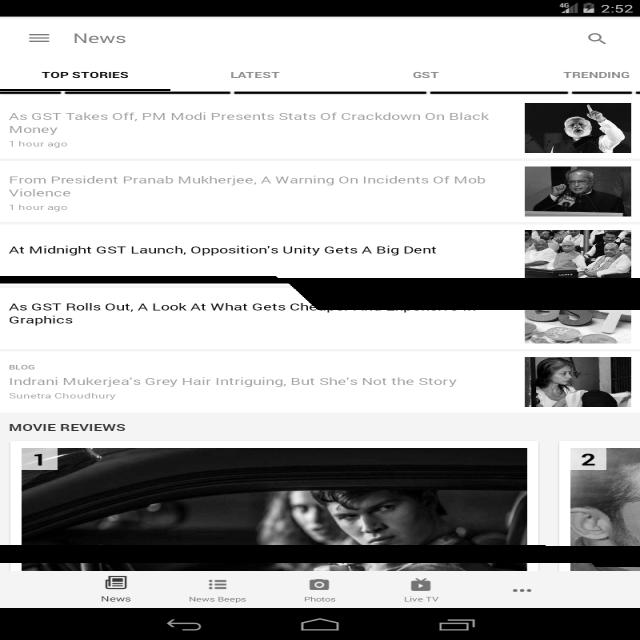ImageButton: (578, 28, 611, 49), (23, 28, 56, 46)
ImageView: (22, 446, 524, 544), (524, 356, 634, 406), (525, 164, 630, 216), (527, 105, 630, 157), (527, 227, 630, 277), (526, 309, 630, 345), (200, 572, 238, 592), (404, 573, 438, 594), (302, 575, 338, 593), (507, 583, 540, 596)
TextView: (1, 241, 442, 261), (4, 107, 494, 125), (2, 170, 492, 186), (6, 300, 312, 316), (8, 376, 464, 386), (3, 417, 128, 433), (35, 64, 138, 82), (67, 27, 136, 48), (559, 65, 632, 83), (223, 64, 286, 82), (406, 66, 448, 82), (91, 591, 139, 604)
